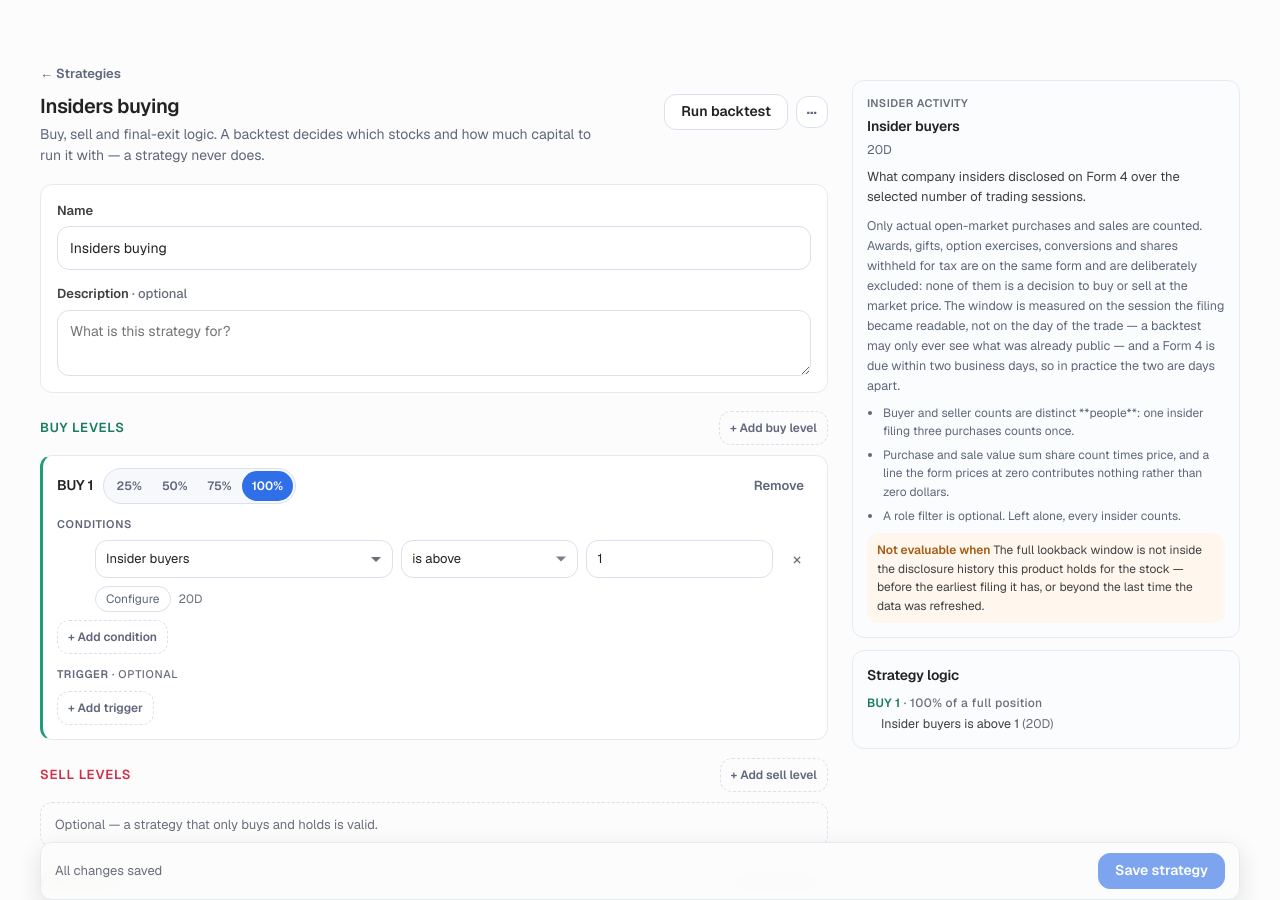
Test: the configuration surface › clearing the last filter means every role, not no role
expect the list item with test id "predicate-row" is shown: met, box [57, 540, 813, 612]
Click the button with test id "operand-config-button". click: [133, 599]
box: [95, 586, 171, 612]
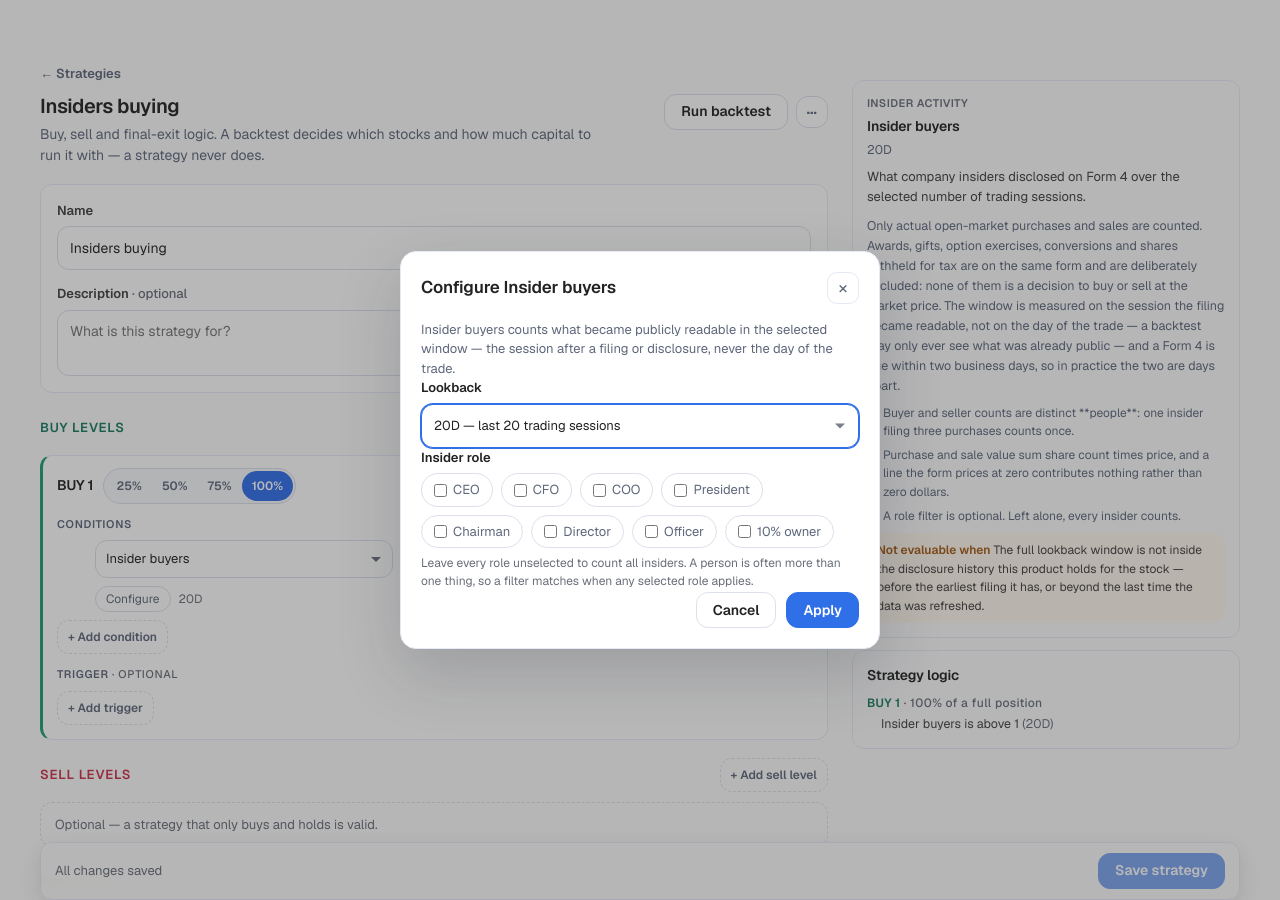
Click the checkbox labelled "CEO". click: [440, 490]
box: [434, 484, 447, 496]
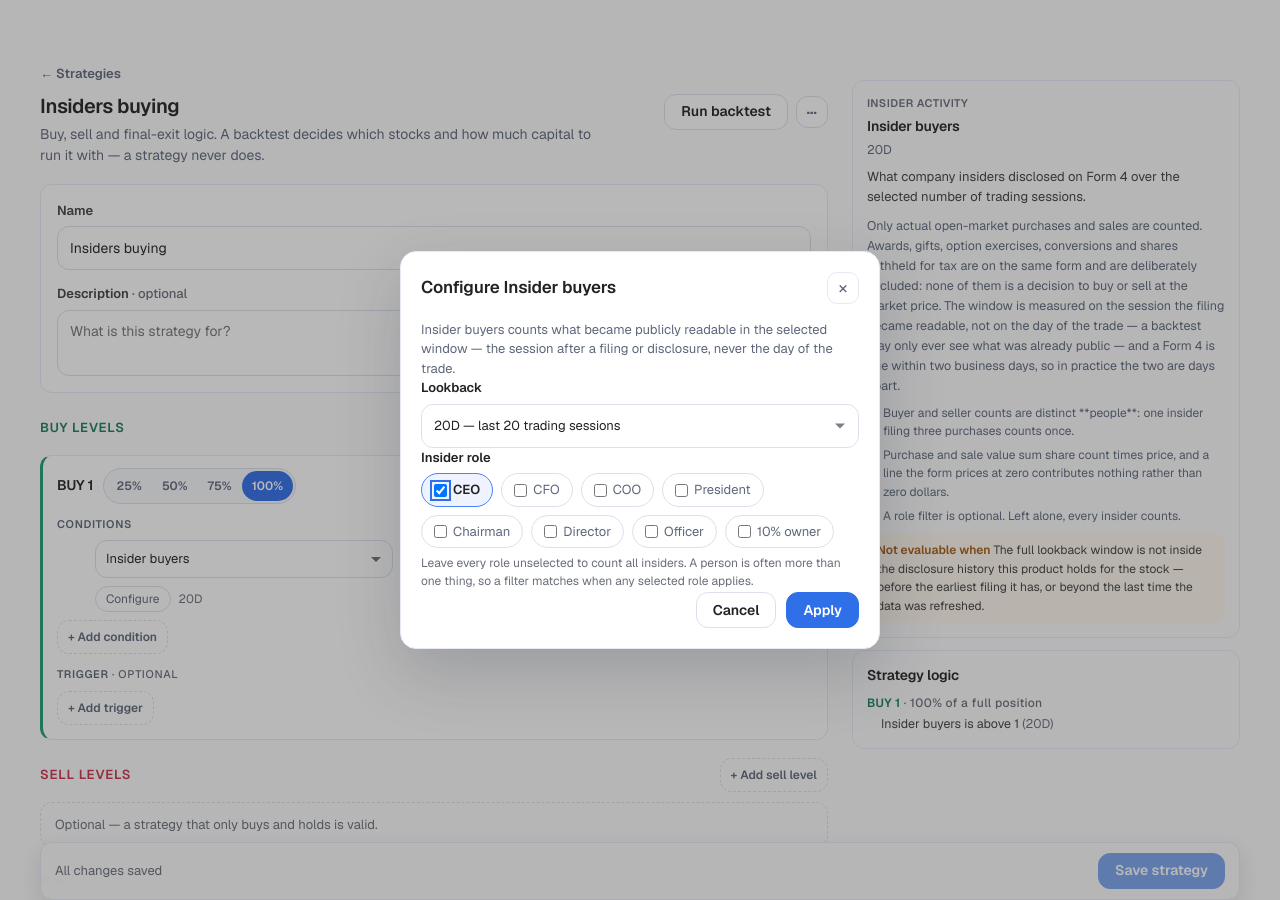
Click the button with test id "alternative-data-config-apply". click: [823, 610]
box: [786, 592, 859, 628]
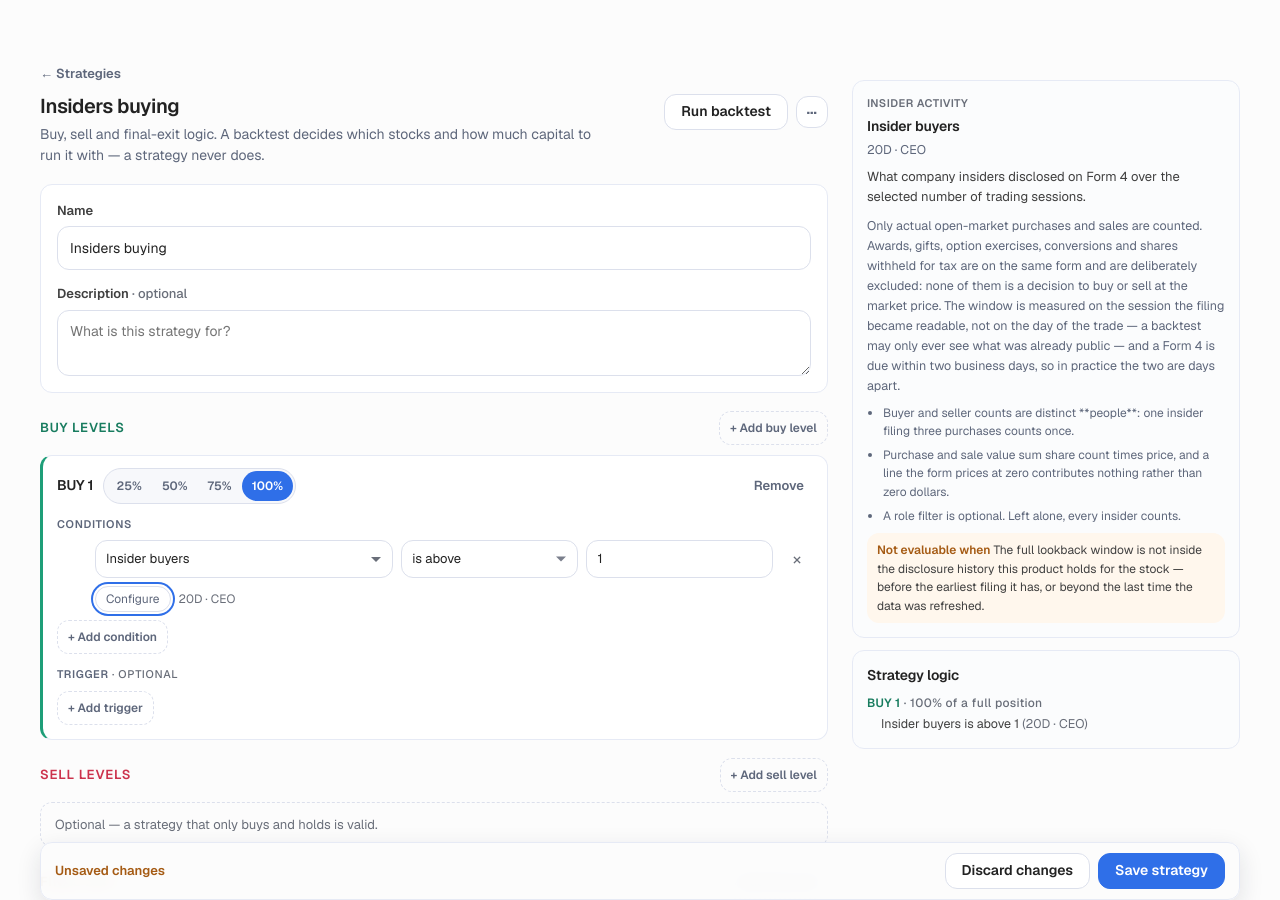
expect the dialog with test id "alternative-data-config" is gone: met
expect the text with test id "operand-configuration-summary" reads "20D · CEO": met, box [179, 591, 235, 607]
Click the button with test id "operand-config-button". click: [133, 599]
box: [95, 586, 171, 612]
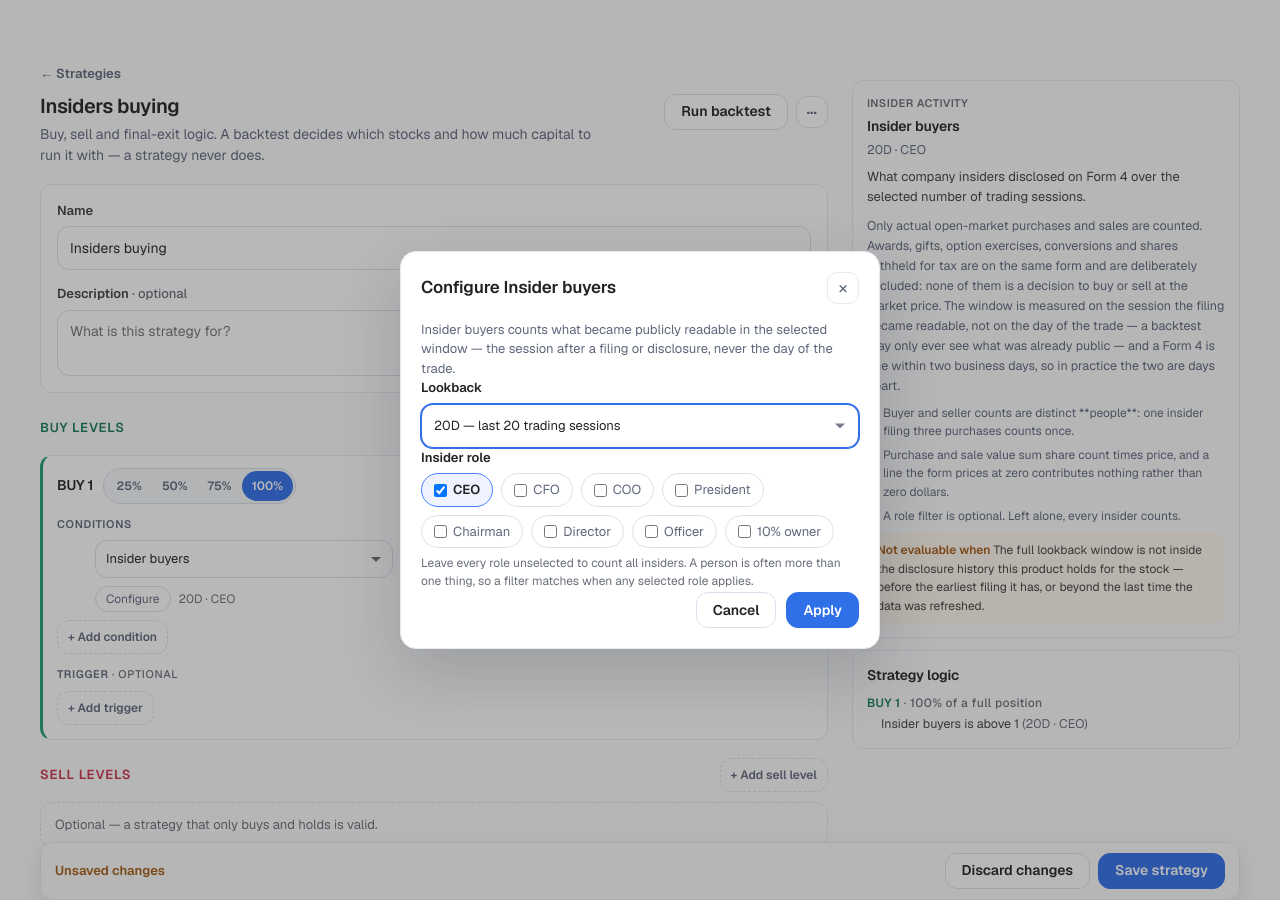
Click the checkbox labelled "CEO". click: [440, 490]
box: [434, 484, 447, 496]
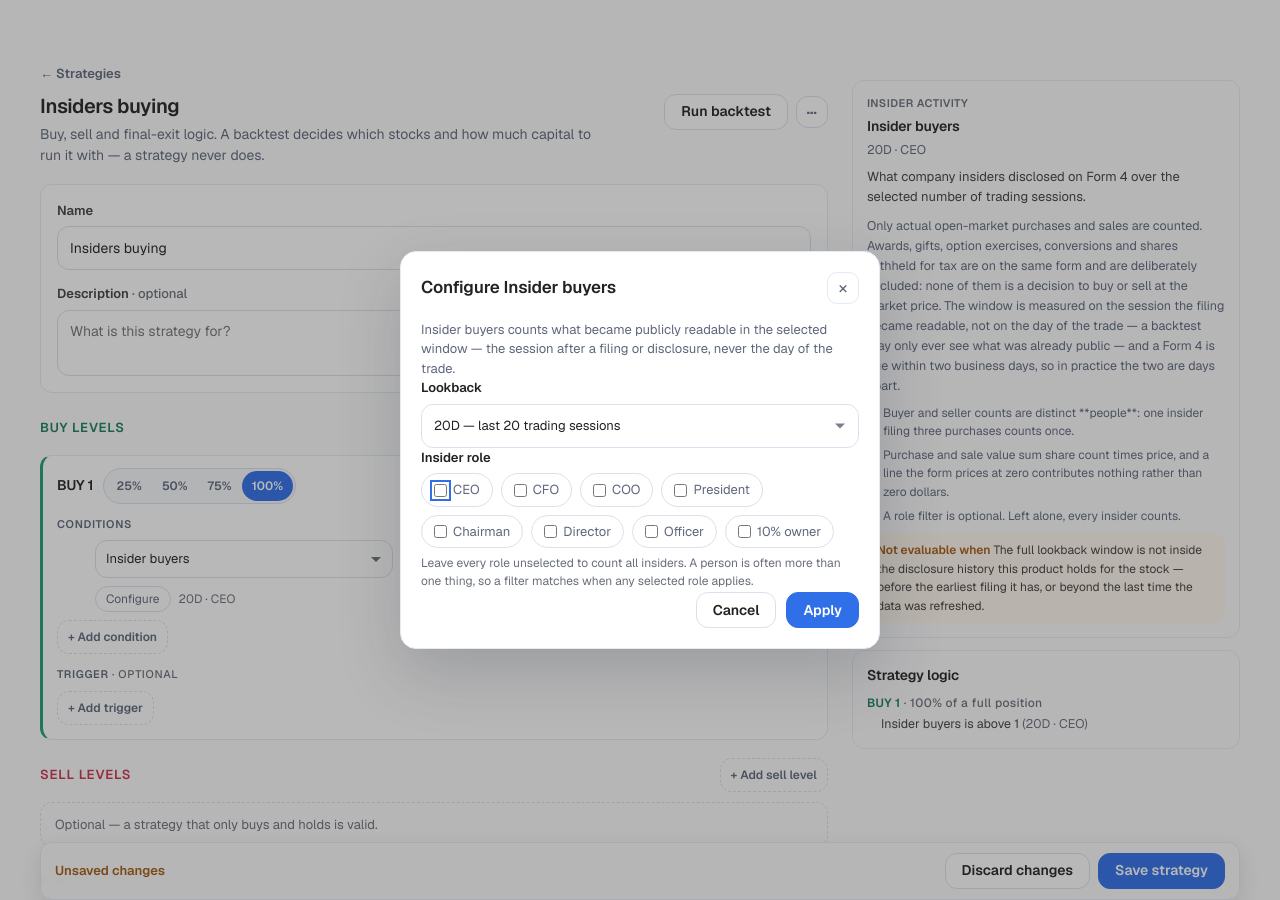
Click the button with test id "alternative-data-config-apply". click: [823, 610]
box: [786, 592, 859, 628]
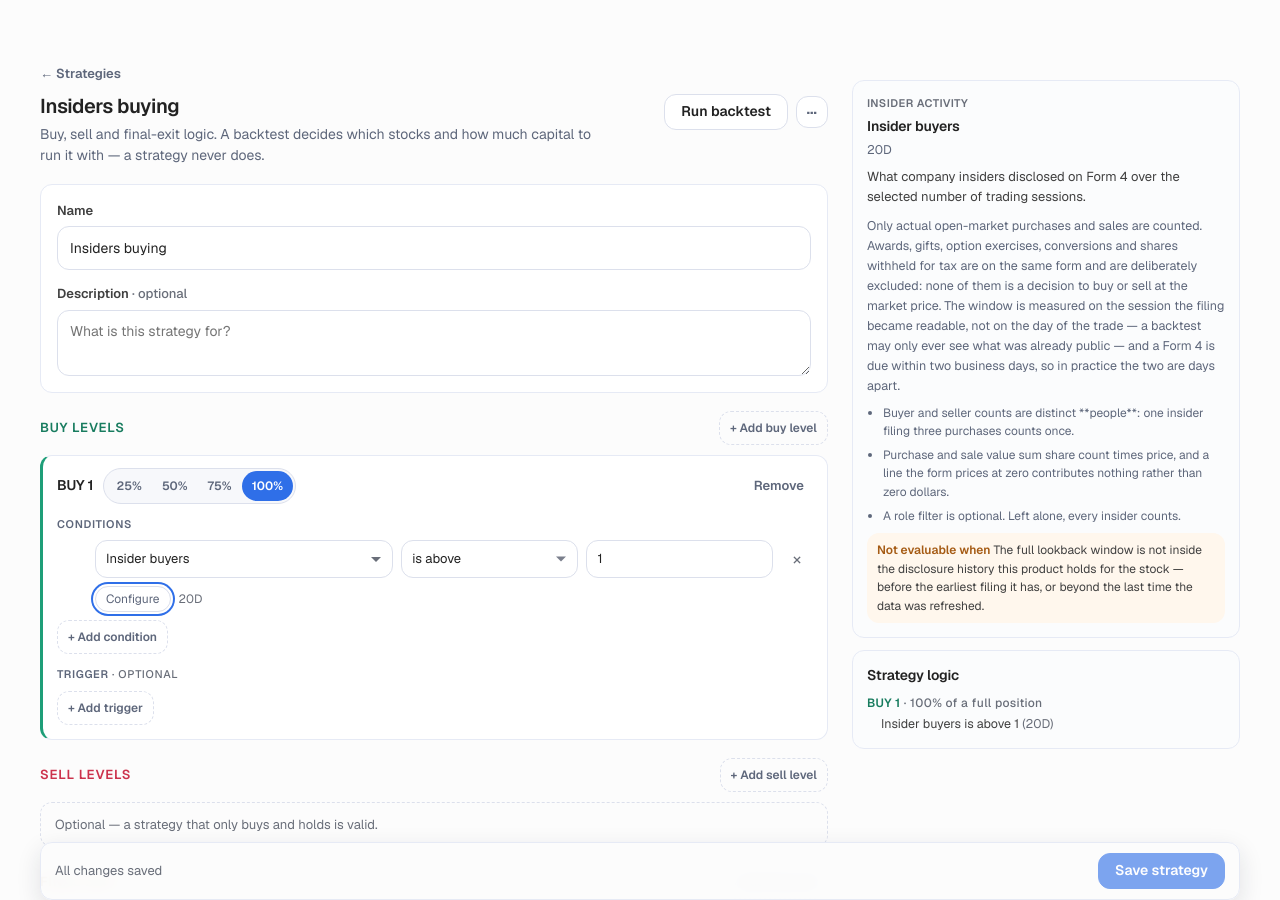
expect the dialog with test id "alternative-data-config" is gone: met
expect the text with test id "operand-configuration-summary" reads "20D": met, box [179, 591, 202, 607]
expect the button with test id "save-strategy" is disabled: met, box [1098, 853, 1225, 889]
